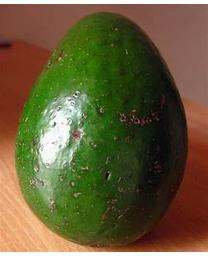avocado: (16, 11, 187, 246)
